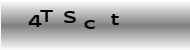4: (27, 14, 42, 28)
S: (62, 10, 76, 24)
T: (38, 9, 54, 23)
c: (83, 19, 96, 30)
t: (109, 12, 121, 26)
